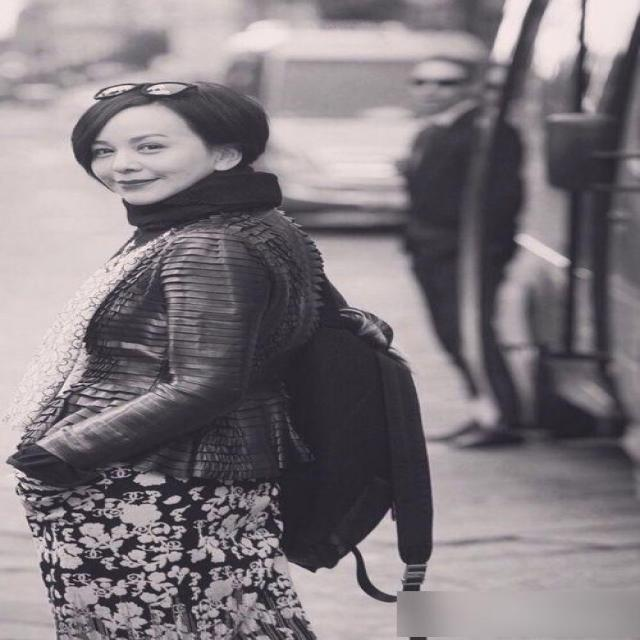Manusia: (0, 37, 467, 640)
